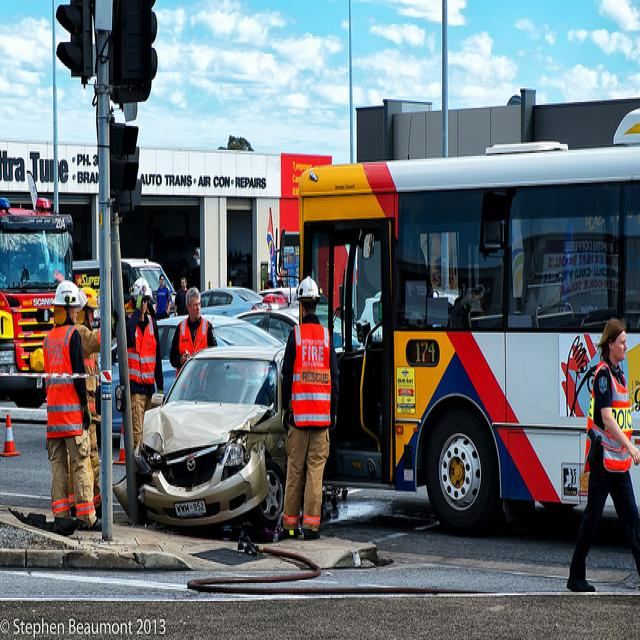Vehicle: (294, 105, 640, 533), (110, 343, 287, 531), (112, 313, 285, 431), (1, 197, 75, 411), (0, 196, 78, 378), (73, 259, 176, 319), (236, 309, 299, 343), (199, 287, 264, 318), (258, 289, 290, 312)
